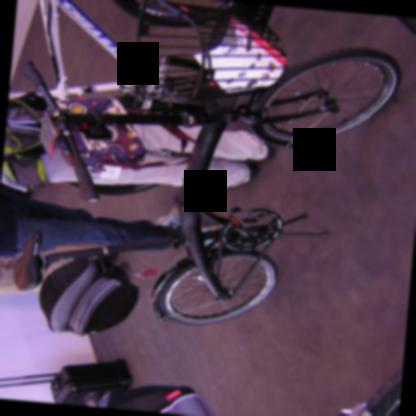backpack: (3, 87, 49, 187), (100, 385, 213, 416)
handbag: (55, 98, 204, 175)
suitcase: (0, 357, 134, 406)
